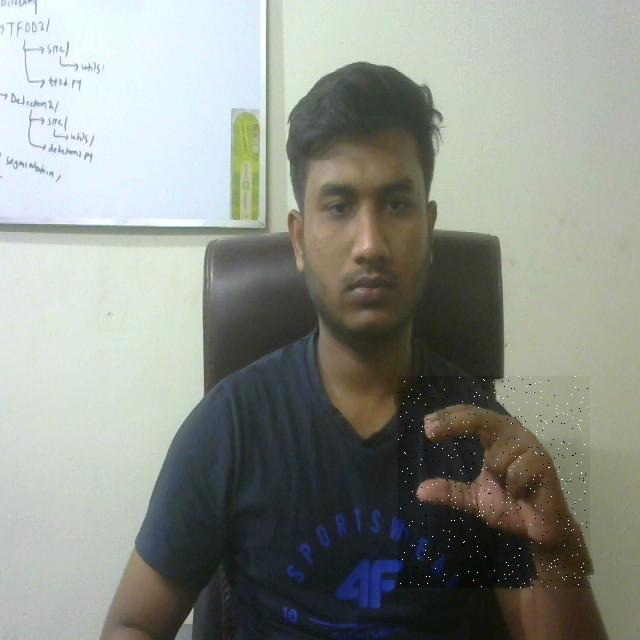No: (398, 376, 590, 588)
